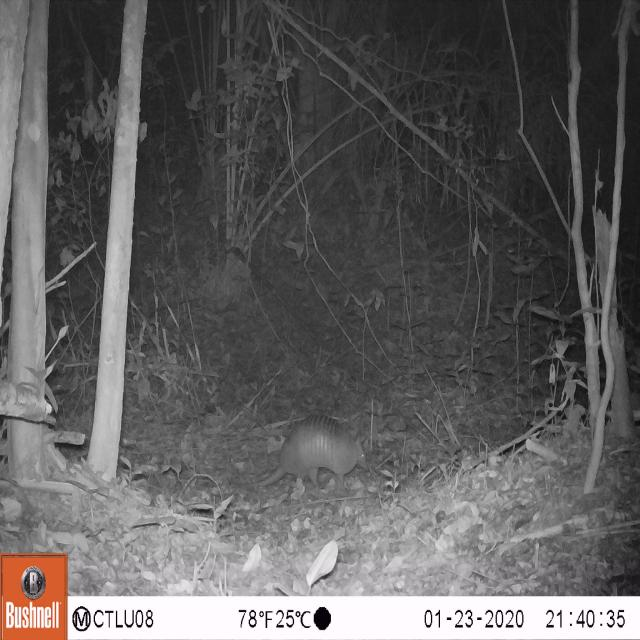Armadillo: (259, 408, 367, 498)
